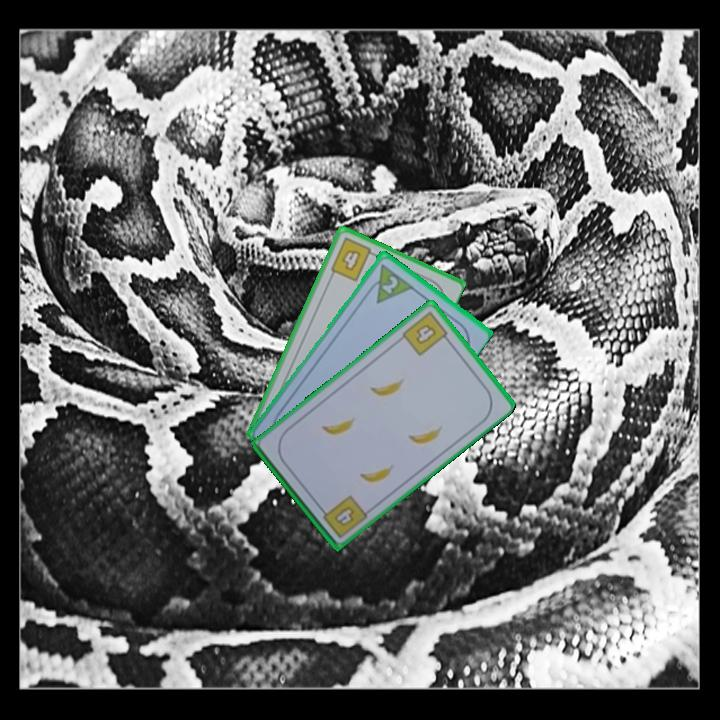2p: (378, 271, 401, 296)
4b: (398, 308, 454, 359), (316, 491, 370, 541), (327, 234, 379, 284)
